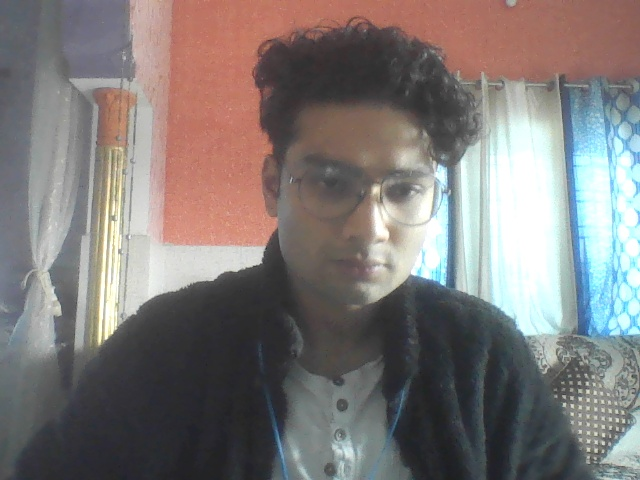real: (244, 26, 461, 333)
